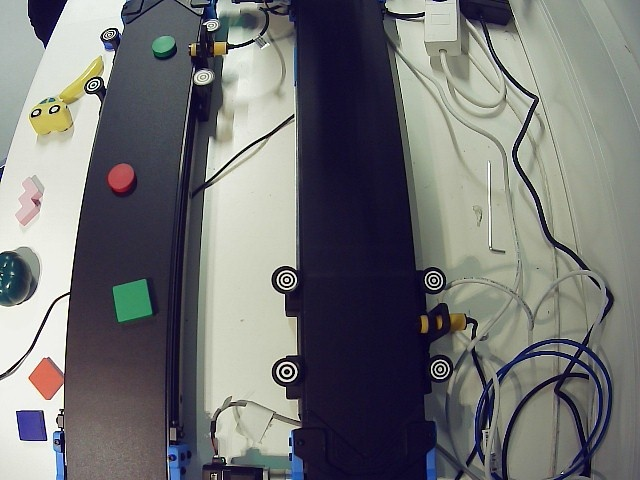Green_Circle: (153, 33, 178, 59)
Green_Square: (111, 277, 155, 324)
Red_Circle: (108, 163, 137, 195)
